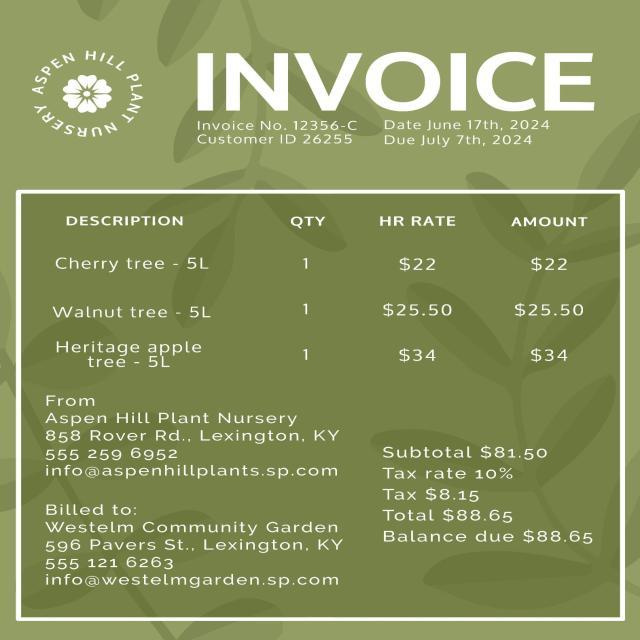ROI: (18, 198, 618, 374), (185, 42, 620, 160), (29, 386, 350, 489), (39, 496, 364, 594), (370, 430, 608, 555), (12, 47, 150, 141)
